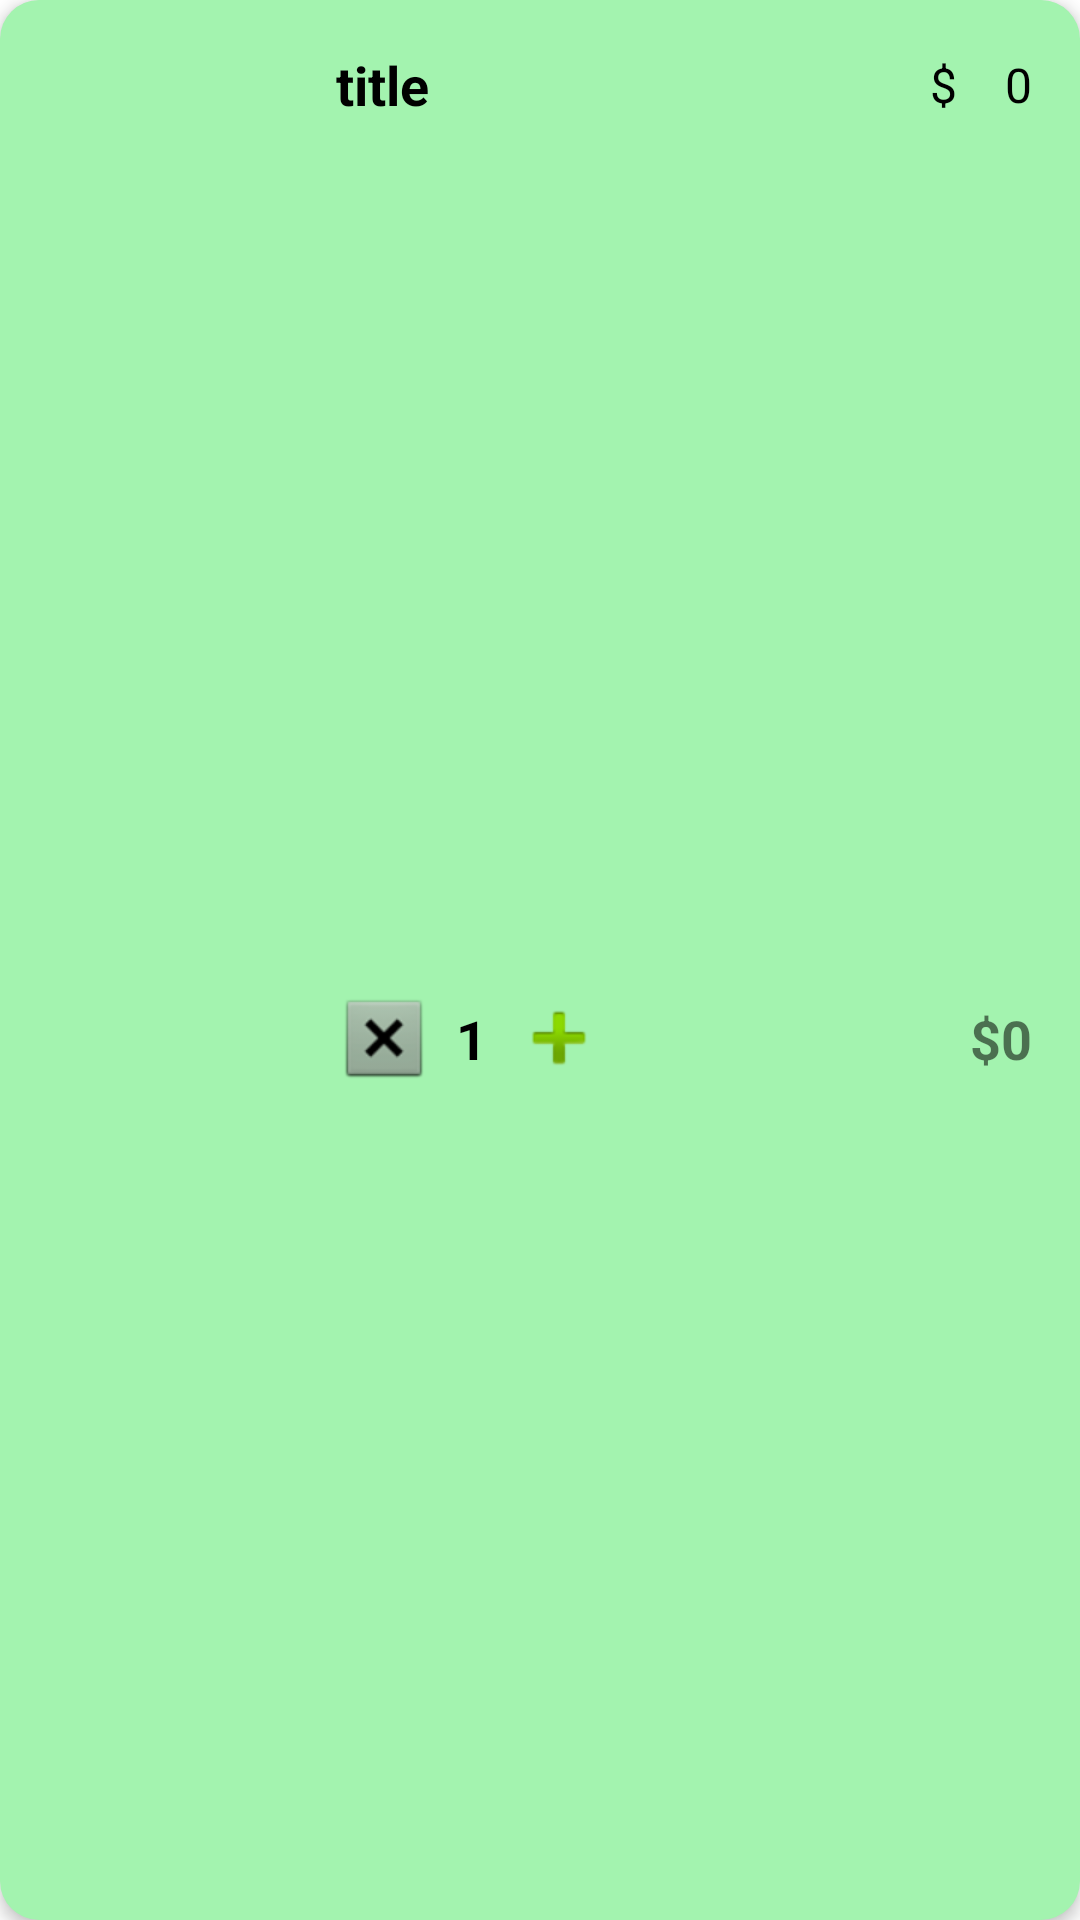

Where icons sit on this 1080 × 1920 app screen, as (x1, y1, x2, y2):
add: (532, 1011, 586, 1065)
